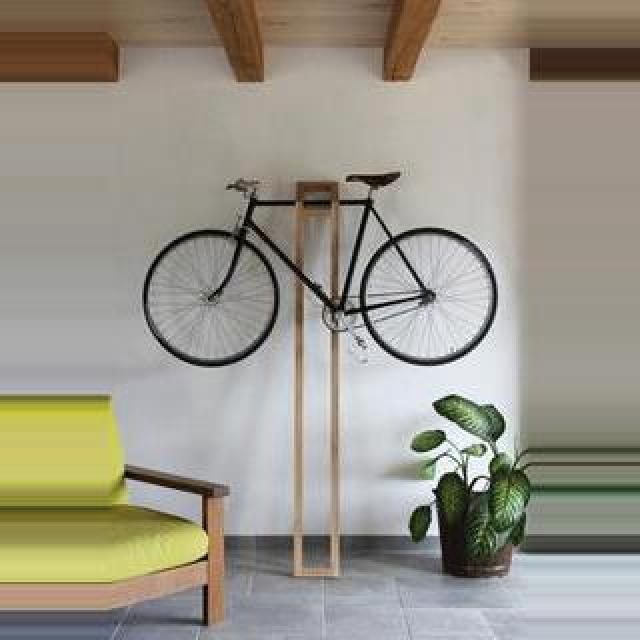Person: (138, 176, 498, 370)
